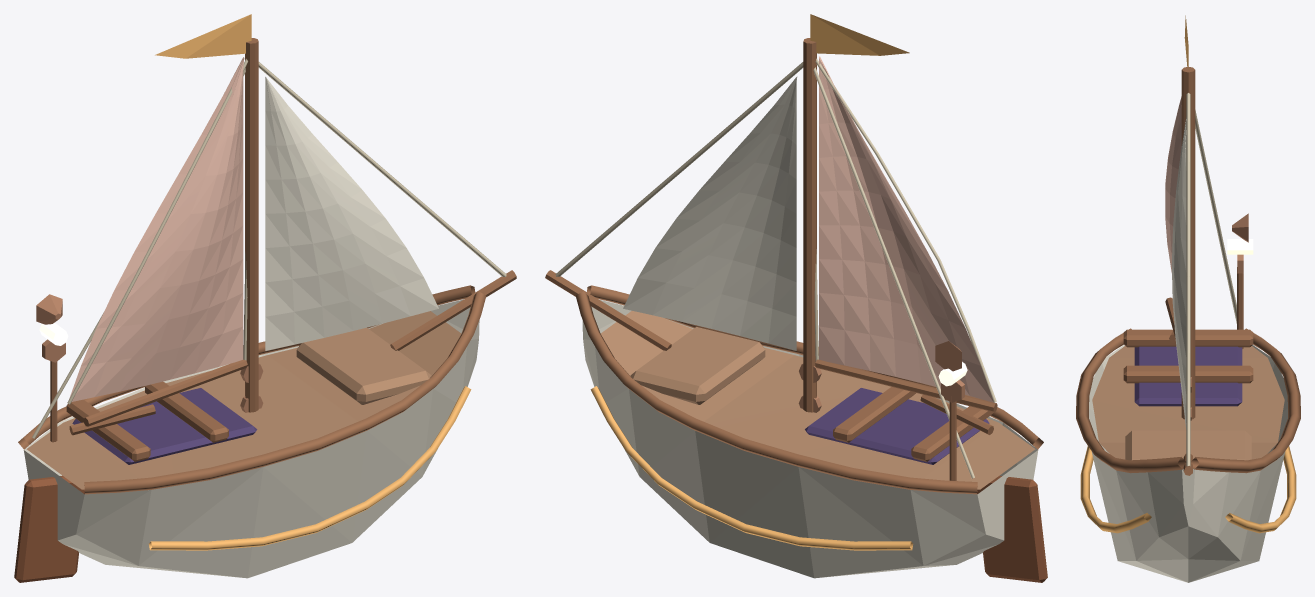
File: landfall_boat.glb
The picture shows the model from 3 angles, left to right: view 1: azimuth 30°, elevation 25°; view 2: azimuth 150°, elevation 25°; view 3: azimuth 270°, elevation 25°; orthographic projection. The views are drawn at different scales.
Visible parts, largest first — view 1: LF_BoatHull_Mesh, LF_BoatMainSail_Mesh, LF_BoatJib_Mesh, LF_BoatDeck_Mesh, LF_BoatWood_Mesh, LF_BoatWoodDark_Mesh, LF_BoatCockpit_Mesh, LF_BoatRope_Mesh, LF_BoatStripe_Mesh, LF_BoatFlag_Mesh, LF_BoatMetal_Mesh; view 2: LF_BoatHull_Mesh, LF_BoatMainSail_Mesh, LF_BoatJib_Mesh, LF_BoatDeck_Mesh, LF_BoatWood_Mesh, LF_BoatRope_Mesh, LF_BoatCockpit_Mesh, LF_BoatWoodDark_Mesh, LF_BoatStripe_Mesh, LF_BoatFlag_Mesh, LF_BoatMetal_Mesh; view 3: LF_BoatHull_Mesh, LF_BoatWood_Mesh, LF_BoatDeck_Mesh, LF_BoatCockpit_Mesh, LF_BoatJib_Mesh, LF_BoatRope_Mesh, LF_BoatStripe_Mesh, LF_BoatMainSail_Mesh, LF_BoatMetal_Mesh, LF_BoatLanternGlow_Mesh.
Part boxes in pixels (x1,y1,x2,y2): LF_BoatHull_Mesh: [23, 299, 479, 578]; LF_BoatMainSail_Mesh: [69, 57, 244, 401]; LF_BoatJib_Mesh: [265, 77, 438, 350]; LF_BoatDeck_Mesh: [26, 311, 461, 489]; LF_BoatWood_Mesh: [18, 38, 516, 494]; LF_BoatWoodDark_Mesh: [14, 475, 84, 582]; LF_BoatCockpit_Mesh: [72, 388, 257, 464]; LF_BoatRope_Mesh: [32, 58, 506, 438]; LF_BoatStripe_Mesh: [148, 386, 471, 550]; LF_BoatFlag_Mesh: [155, 14, 251, 58]; LF_BoatMetal_Mesh: [36, 294, 263, 412]; LF_BoatHull_Mesh: [582, 299, 1038, 578]; LF_BoatMainSail_Mesh: [819, 56, 993, 402]; LF_BoatJib_Mesh: [623, 76, 797, 350]; LF_BoatDeck_Mesh: [600, 311, 1035, 489]; LF_BoatWood_Mesh: [545, 38, 1043, 494]; LF_BoatRope_Mesh: [555, 58, 996, 478]; LF_BoatCockpit_Mesh: [805, 388, 989, 464]; LF_BoatWoodDark_Mesh: [977, 475, 1047, 582]; LF_BoatStripe_Mesh: [590, 386, 913, 550]; LF_BoatFlag_Mesh: [810, 14, 909, 55]; LF_BoatMetal_Mesh: [798, 341, 964, 412]; LF_BoatHull_Mesh: [1089, 345, 1287, 582]; LF_BoatWood_Mesh: [1076, 66, 1300, 475]; LF_BoatDeck_Mesh: [1092, 346, 1284, 468]; LF_BoatCockpit_Mesh: [1134, 346, 1242, 406]; LF_BoatJib_Mesh: [1171, 118, 1186, 429]; LF_BoatRope_Mesh: [1186, 93, 1236, 466]; LF_BoatStripe_Mesh: [1080, 446, 1296, 533]; LF_BoatMainSail_Mesh: [1165, 96, 1181, 272]; LF_BoatMetal_Mesh: [1190, 213, 1248, 420]; LF_BoatLanternGlow_Mesh: [1227, 239, 1253, 254].
Bounding box in the file's own units: 2.94 × 3.07 × 1.21.
